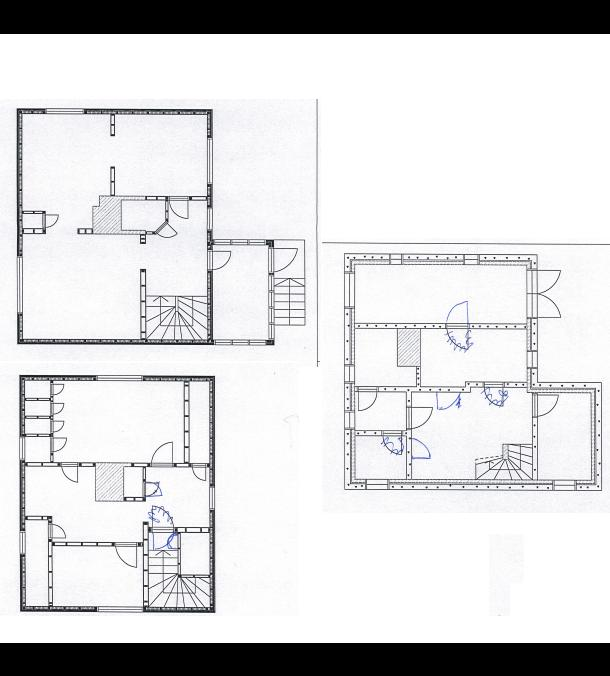door: (526, 292, 564, 323), (528, 388, 563, 420), (266, 246, 304, 275), (523, 266, 562, 292), (480, 376, 509, 410), (446, 322, 475, 354), (405, 403, 434, 432), (444, 300, 472, 328), (148, 438, 175, 467), (404, 435, 434, 461), (380, 428, 406, 458), (166, 193, 192, 222), (113, 538, 138, 568), (150, 524, 176, 550), (354, 384, 379, 411), (436, 384, 460, 410), (154, 216, 180, 239), (58, 459, 82, 482), (190, 458, 212, 481), (140, 479, 164, 500), (45, 520, 68, 540), (46, 434, 68, 453), (41, 212, 62, 228), (47, 416, 67, 431), (48, 380, 66, 396), (48, 400, 66, 415)
perimeter: (12, 104, 276, 346), (343, 252, 602, 492), (16, 372, 218, 612)
stairs: (143, 292, 208, 341), (146, 571, 210, 608), (148, 529, 178, 606), (477, 440, 534, 480), (274, 274, 306, 329)
window: (200, 128, 219, 191), (12, 246, 28, 318), (88, 370, 150, 385), (38, 101, 94, 117), (341, 268, 359, 313), (93, 602, 146, 614), (362, 474, 394, 492), (546, 478, 580, 494), (342, 356, 358, 387), (524, 343, 540, 374), (459, 248, 484, 266), (206, 479, 218, 515), (203, 200, 216, 232), (16, 429, 27, 464), (18, 524, 28, 561), (384, 250, 408, 264), (265, 287, 278, 311), (344, 405, 355, 432), (248, 236, 272, 248), (208, 234, 232, 246), (265, 271, 278, 292), (229, 236, 249, 248), (248, 336, 270, 346), (266, 323, 277, 343), (230, 336, 251, 346), (210, 338, 234, 346), (266, 305, 275, 325)
